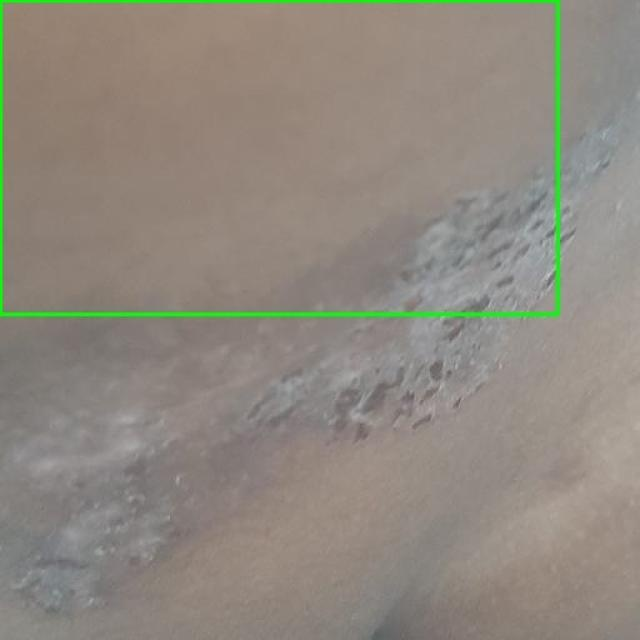Eczema: (0, 0, 559, 315)
